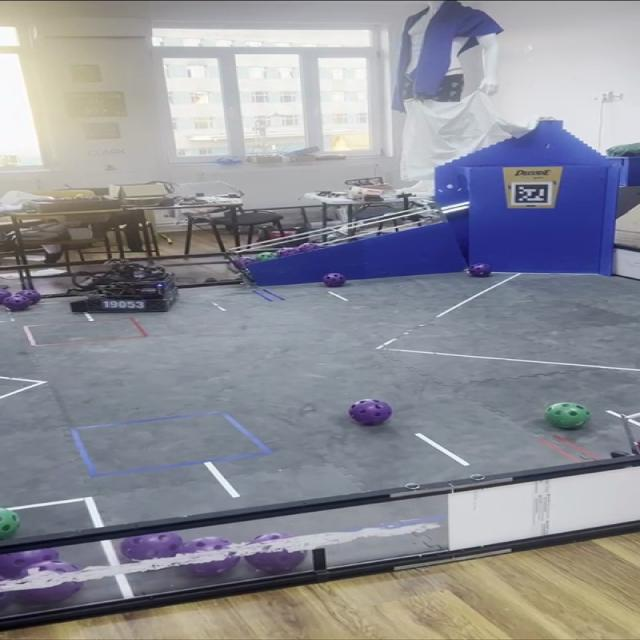artifact_green: (544, 403, 590, 429), (0, 509, 19, 540), (255, 252, 277, 261)
artifact_purple: (246, 533, 305, 574), (0, 549, 58, 579), (120, 533, 182, 560), (18, 582, 82, 604), (186, 554, 239, 577), (350, 399, 391, 426), (2, 294, 31, 311), (18, 290, 41, 304), (323, 273, 346, 287), (468, 264, 491, 277), (232, 257, 255, 269), (298, 243, 321, 252), (239, 257, 255, 269), (278, 248, 299, 257), (0, 592, 10, 609), (0, 289, 11, 302), (231, 259, 241, 269)
